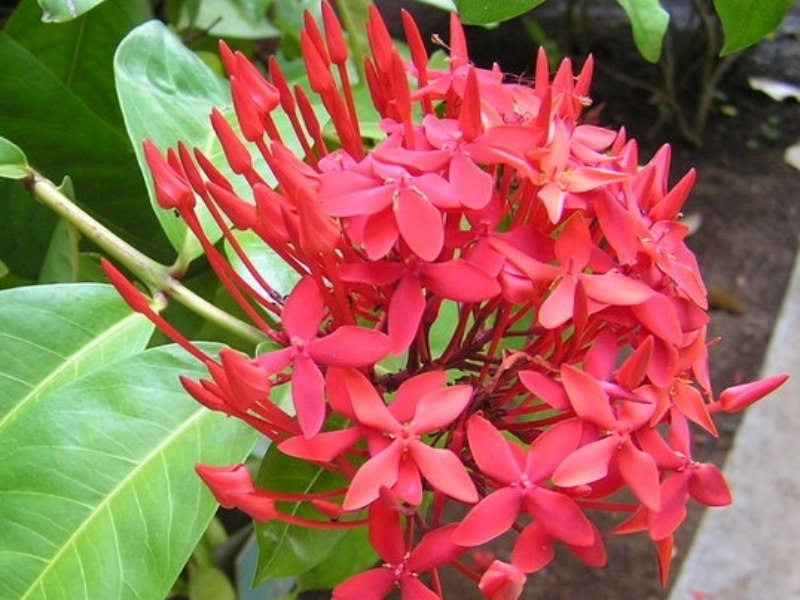Ixora: (91, 1, 789, 600)
